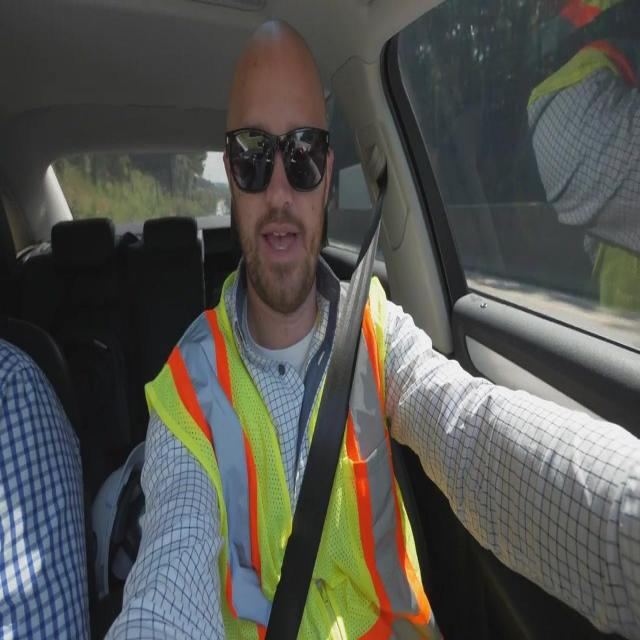vest: (138, 269, 444, 639), (525, 0, 639, 322)
